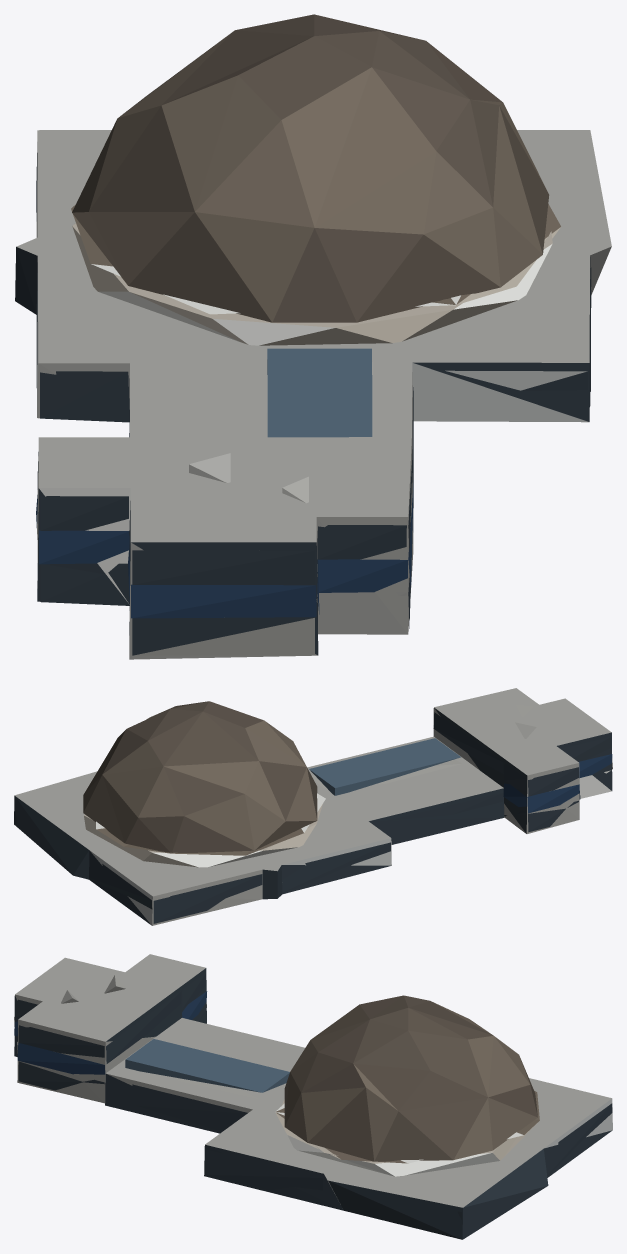
File: artis-planetarium.lod2.glb
3 renders of one model, top to bottom at view 1: azimuth 30°, elevation 25°; view 2: azimuth 150°, elevation 25°; view 3: azimuth 270°, elevation 25°, orthographic. The views are drawn at different scales.
Parts seen in each view (by area): view 1: lod2; view 2: lod2; view 3: lod2.
Part boxes in pixels (bbox=[...]): lod2: bbox=[15, 14, 611, 659]; lod2: bbox=[14, 688, 612, 925]; lod2: bbox=[14, 954, 612, 1239].
Size of the model in its own units: 51.17 by 15.6 by 58.17.
